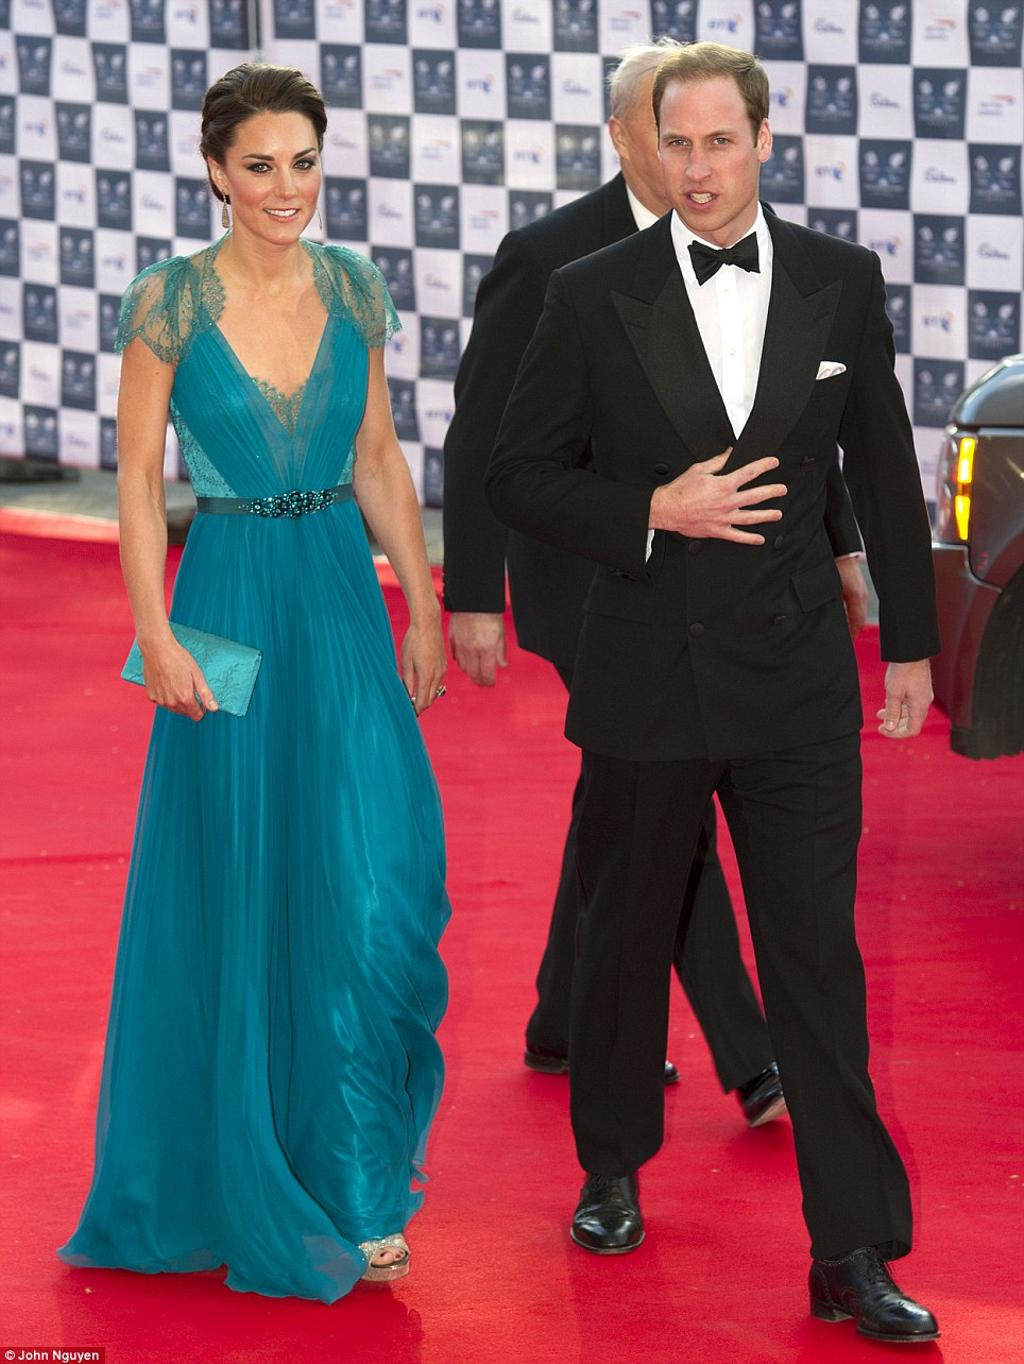face: (661, 69, 754, 229), (235, 99, 320, 246)
